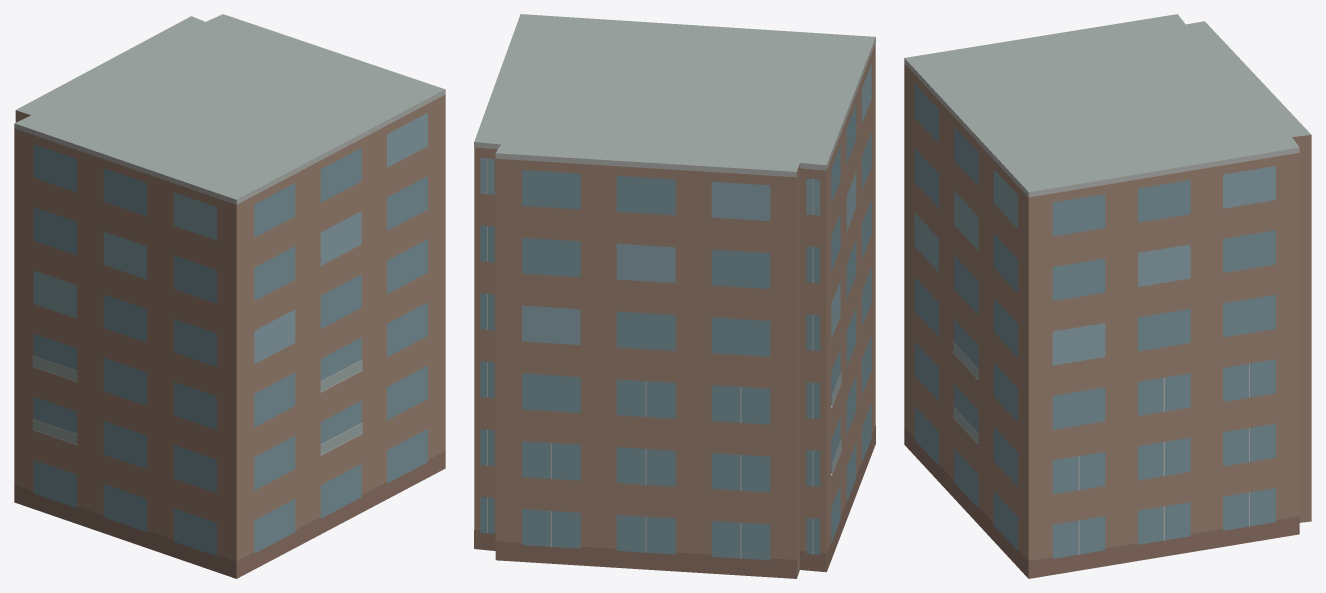
File: survey-upis-32964874.glb
The picture shows the model from 3 angles, left to right: view 1: azimuth 30°, elevation 25°; view 2: azimuth 150°, elevation 25°; view 3: azimuth 270°, elevation 25°; orthographic projection. The views are drawn at different scales.
Visible parts, largest first — view 1: survey-upis-32964874.tmp; view 2: survey-upis-32964874.tmp; view 3: survey-upis-32964874.tmp.
Boxes of the visible parts, x1,y1,x2,y2 form: survey-upis-32964874.tmp: [14, 14, 445, 578]; survey-upis-32964874.tmp: [474, 14, 875, 578]; survey-upis-32964874.tmp: [904, 14, 1311, 578].
Size of the model in its own units: 18.1 by 18.3 by 17.48.
